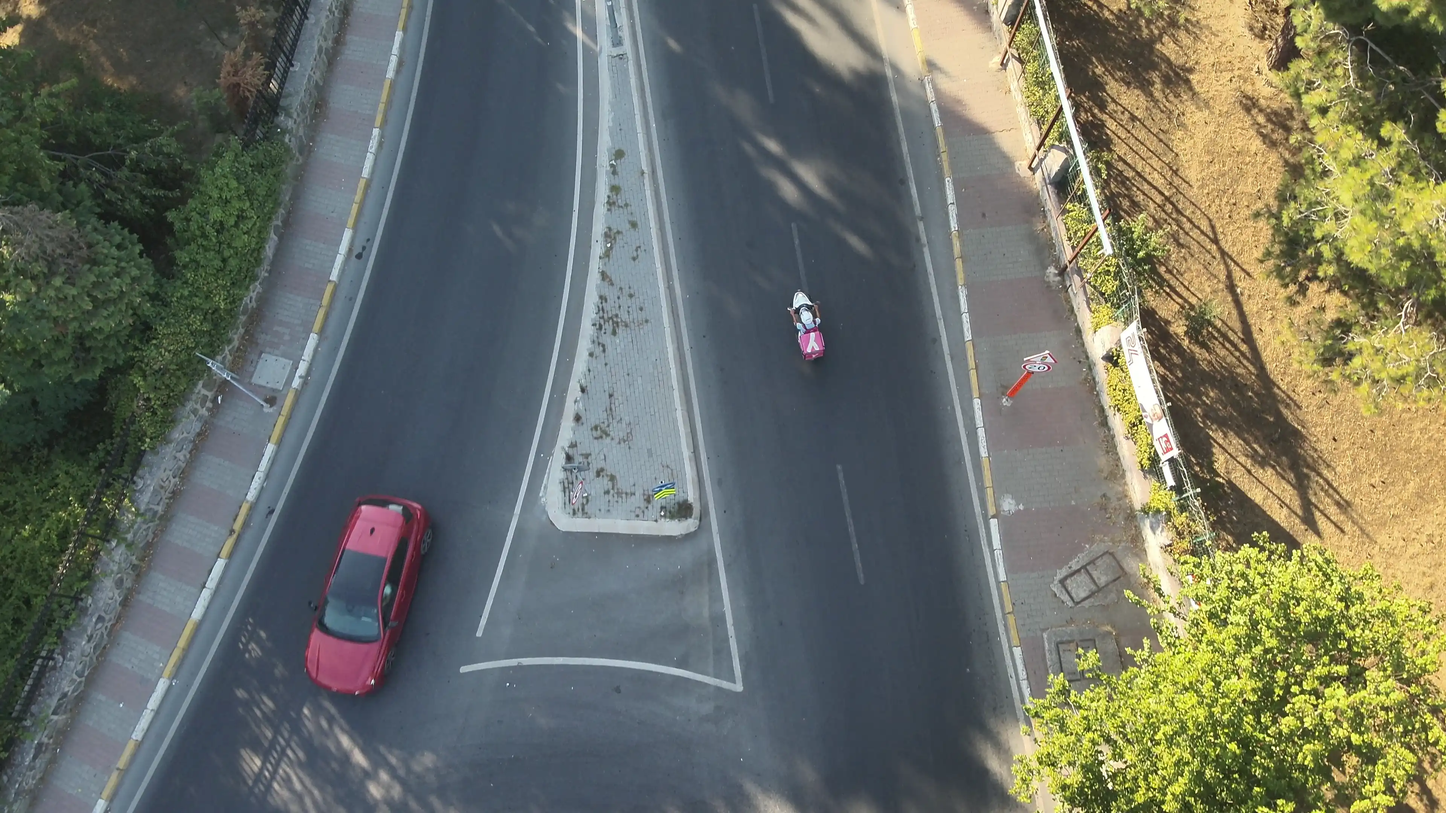vehicle: (305, 496, 431, 701), (783, 286, 831, 366)
